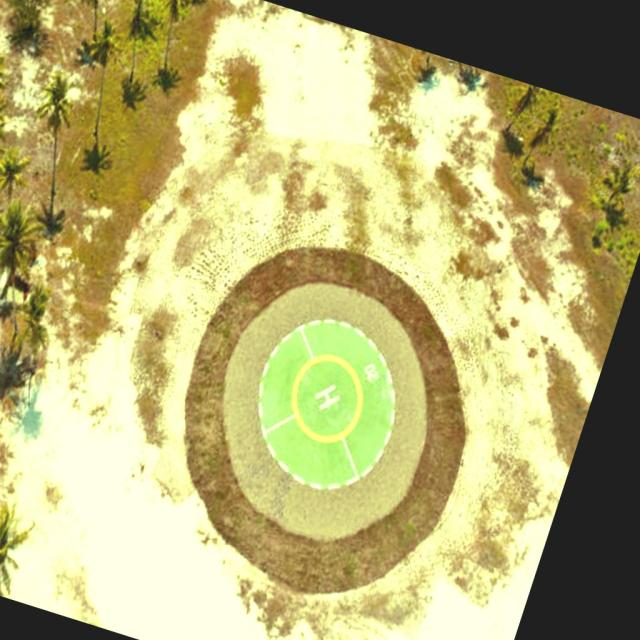helipad: (286, 351, 364, 444)
